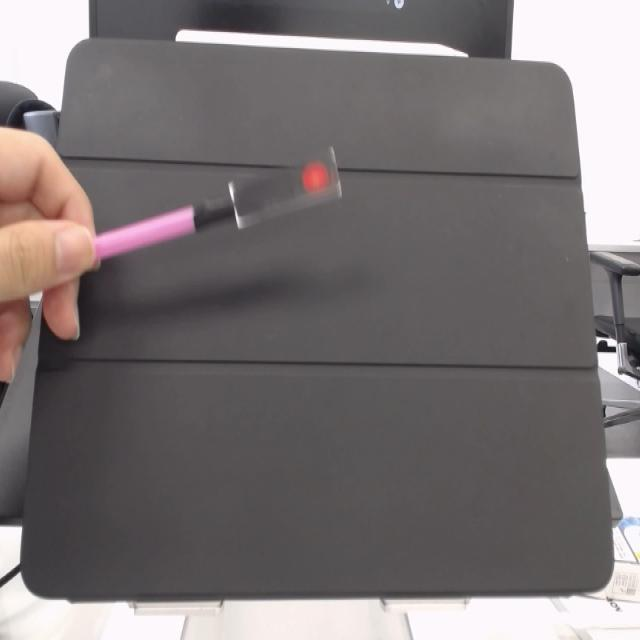traffic light: (234, 147, 343, 229)
